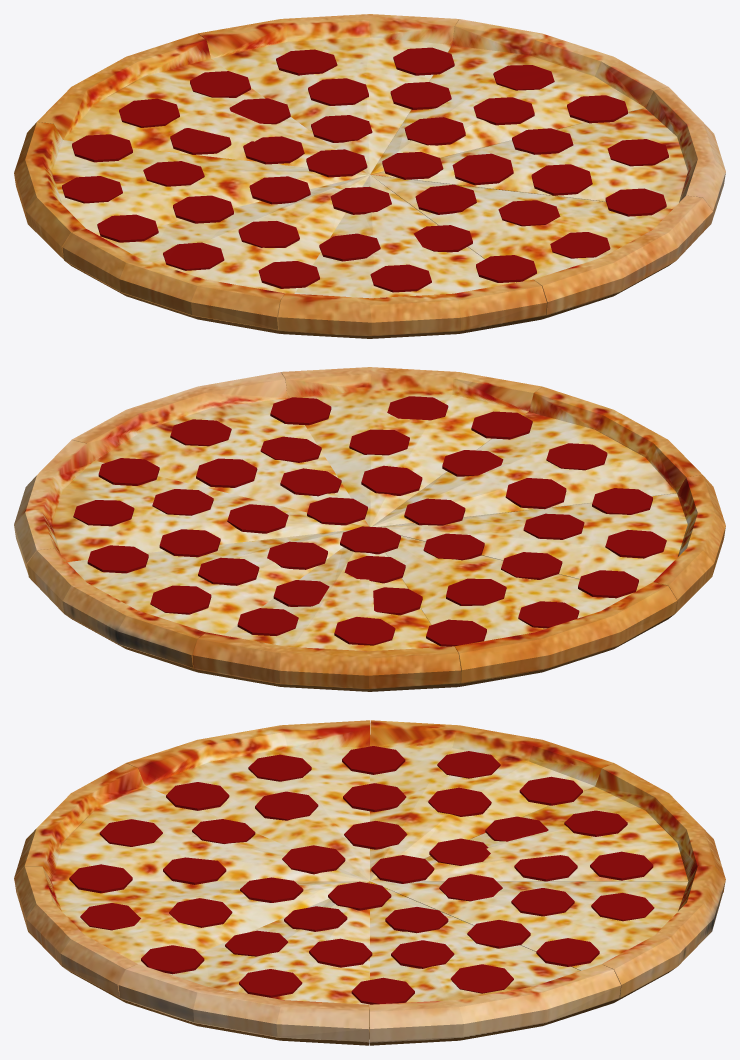
The model's file is pizza-optimized.glb.
The picture shows the model from 3 angles, top to bottom: view 1: azimuth 30°, elevation 25°; view 2: azimuth 150°, elevation 25°; view 3: azimuth 270°, elevation 25°; orthographic projection.
Parts seen in each view (by area): view 1: Node; view 2: Node; view 3: Node.
Boxes of the visible parts, left/top/right/bottom form: Node: left=14, top=14, right=725, bottom=338; Node: left=14, top=367, right=725, bottom=691; Node: left=14, top=720, right=725, bottom=1045.
Size of the model in its own units: 5.33 by 0.3047 by 5.33.
2 materials, 1 textured.
